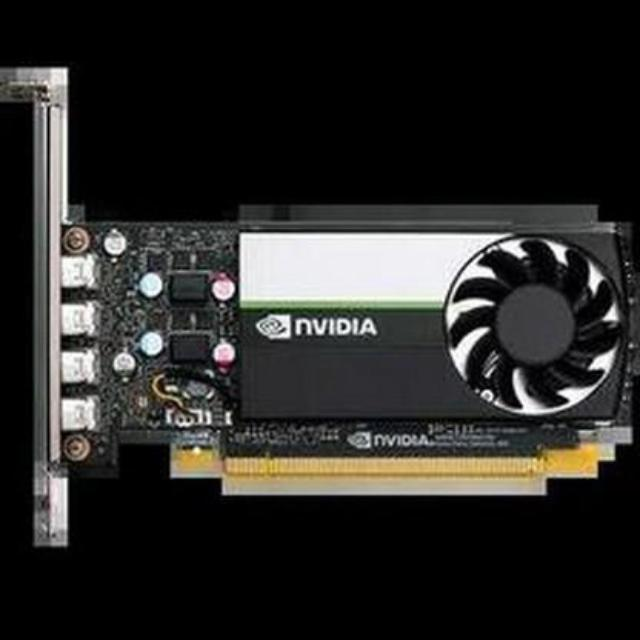GPU: (23, 196, 640, 498)
